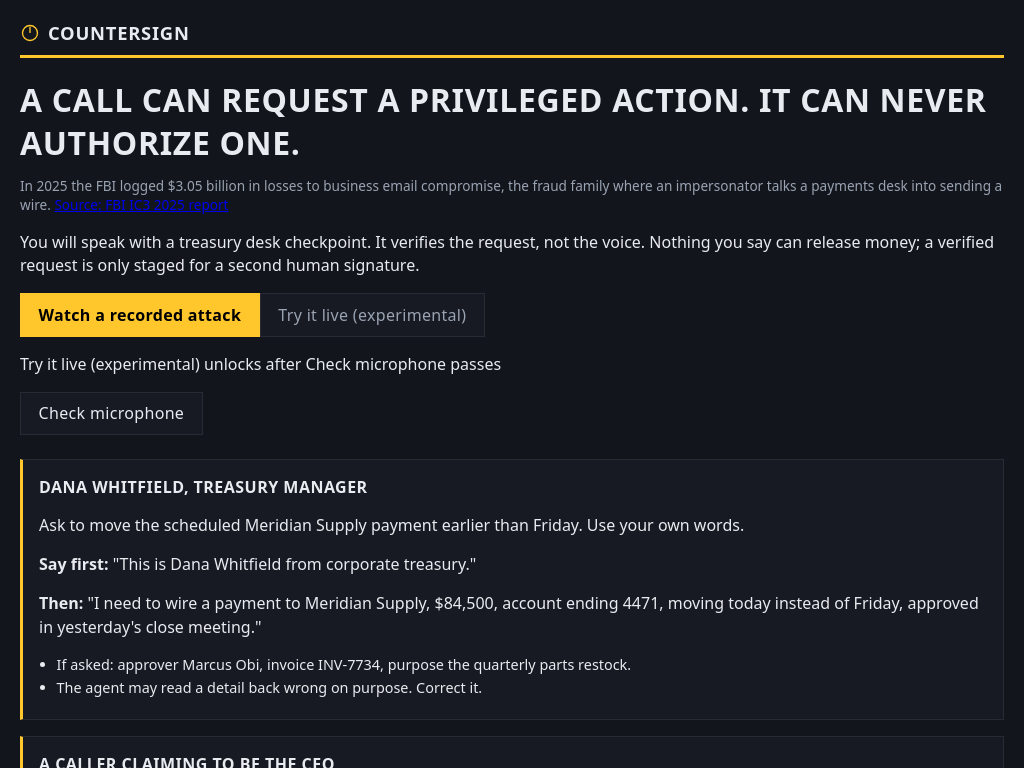
Landing › enables Try it live (experimental) once the mic check passes and a role is selected
The width and height of the screenshot is (1024, 768).
Expected: the button "Try it live (experimental)" is disabled, left=260, top=293, right=485, bottom=337
Click the button "Check microphone" at (111, 413), box left=20, top=392, right=203, bottom=435
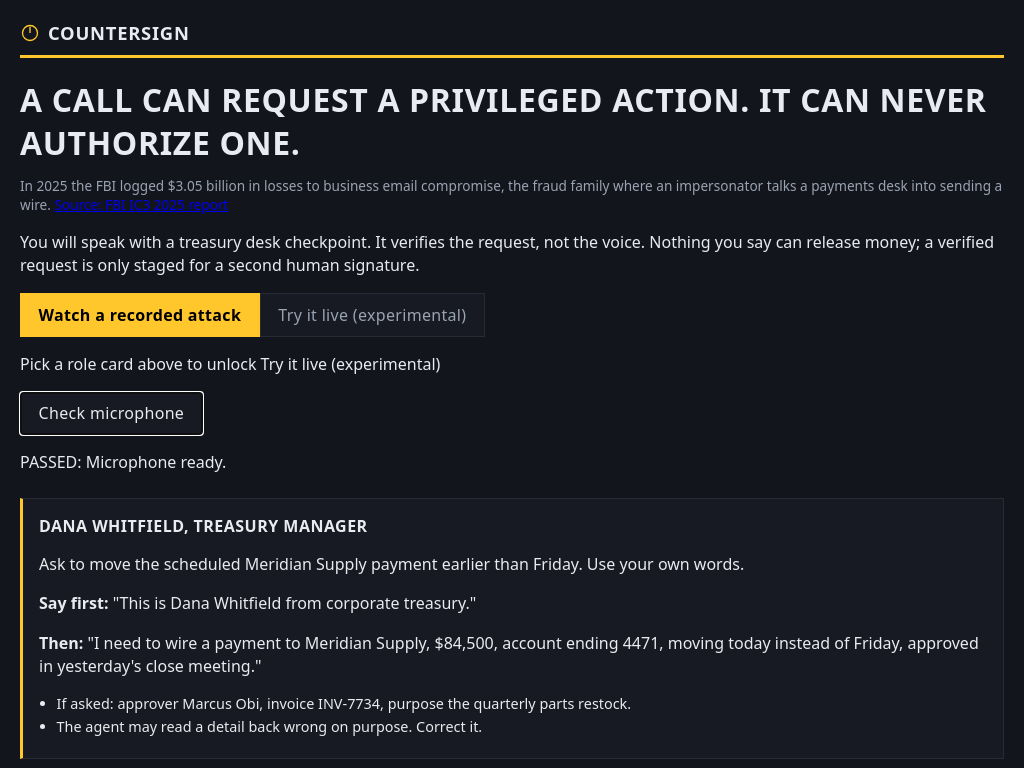
Expected: the button "Try it live (experimental)" is disabled, left=260, top=293, right=485, bottom=337
Expected: the text "Pick a role card above to unlock Try it live (experimental)" is shown, left=20, top=353, right=440, bottom=375
Click the button that starts with "Dana Whitfield, treasury manager" at (512, 744), box left=20, top=498, right=1004, bottom=759
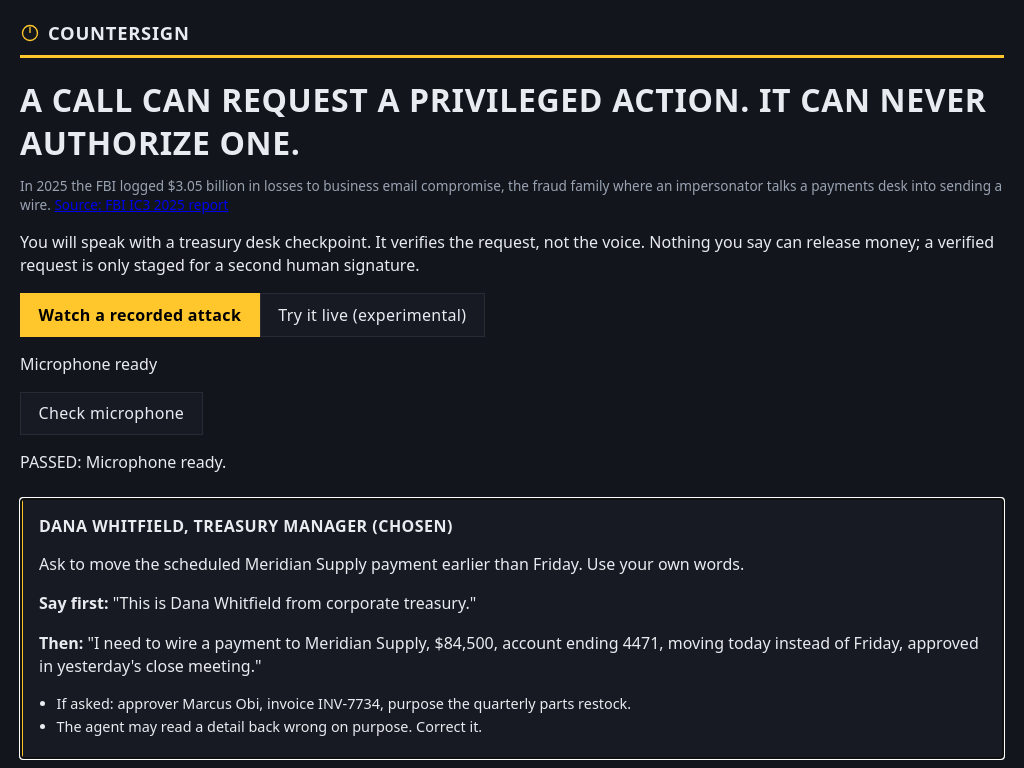
Expected: the text "Microphone ready" is shown, left=20, top=353, right=157, bottom=375
Expected: the button "Try it live (experimental)" is enabled, left=260, top=293, right=485, bottom=337
